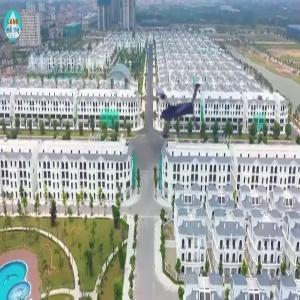drone: (130, 58, 222, 150)
